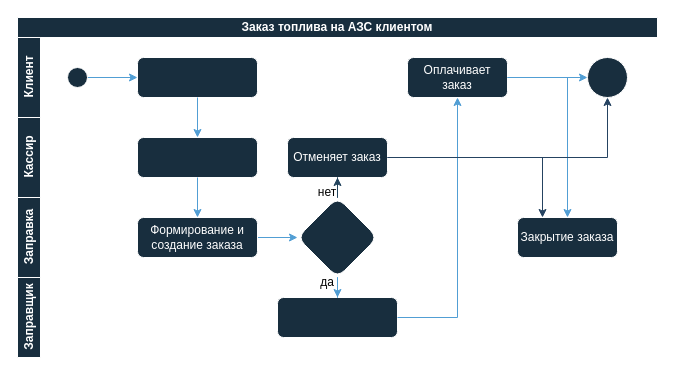
This 675x375 diagram has some shape labels left out. The centre of each missing label's shape, as x and y in pixels:
"Заправляет автомобиль" goes at [337,317].
"Определяет требования к заказу" goes at [197,77].
"Подтверждает заказ" goes at [197,157].
"проверка наличия топлива" goes at [337,237].
